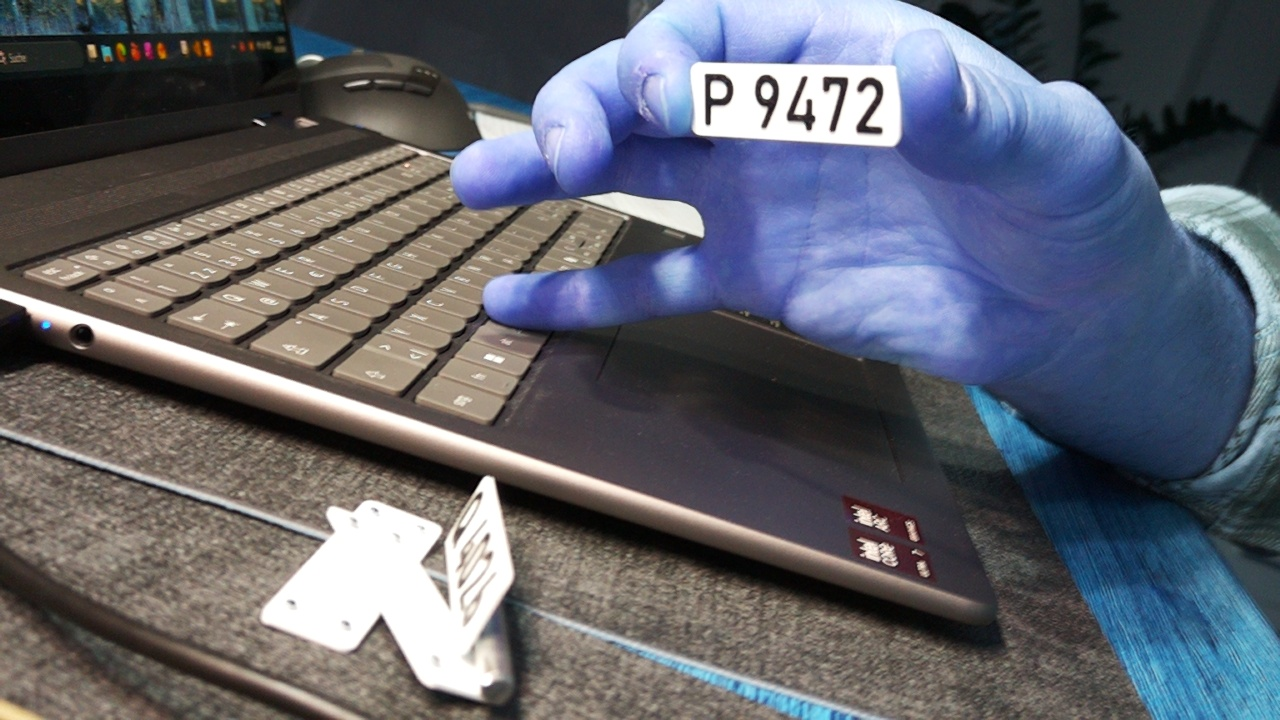license_plate: (255, 495, 443, 659), (685, 59, 907, 150), (439, 468, 521, 659)
